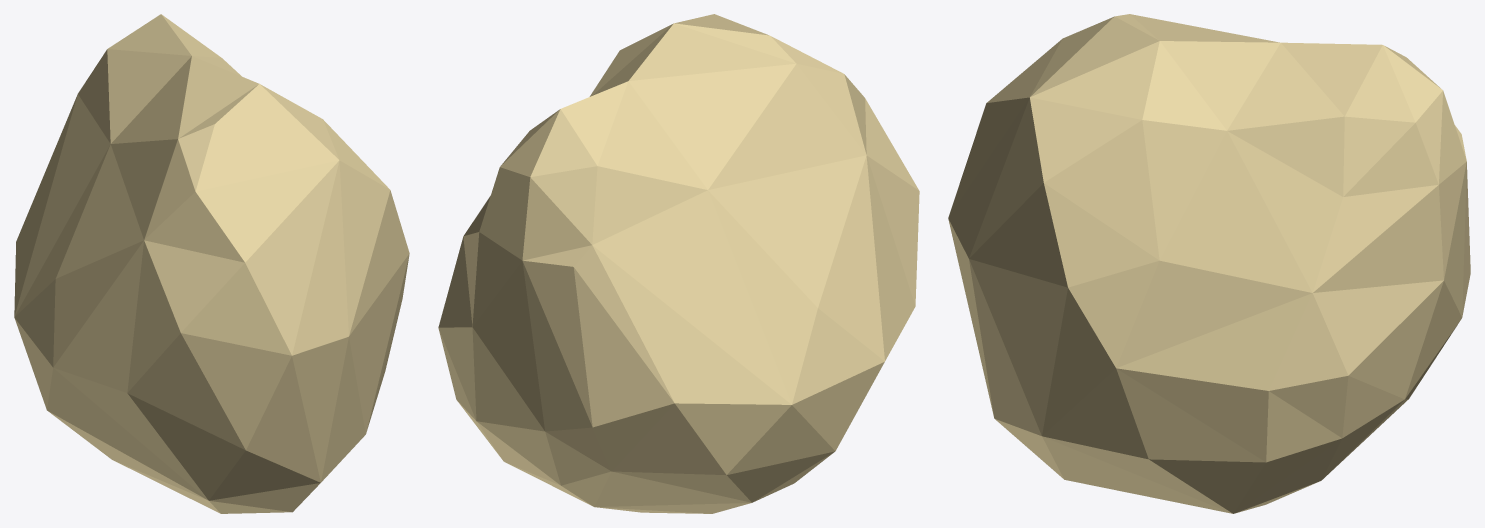
The model's file is Rock (91).fbx.
The picture shows the model from 3 angles, left to right: view 1: azimuth 30°, elevation 25°; view 2: azimuth 150°, elevation 25°; view 3: azimuth 270°, elevation 25°; orthographic projection. The views are drawn at different scales.
Visible parts, largest first — view 1: Asteroid90; view 2: Asteroid90; view 3: Asteroid90.
Part boxes in pixels (<box>): Asteroid90: <box>14,14,409,513</box>; Asteroid90: <box>438,14,919,513</box>; Asteroid90: <box>948,14,1470,513</box>.
Bounding box in the file's own units: 47.99 × 55.46 × 56.35.
